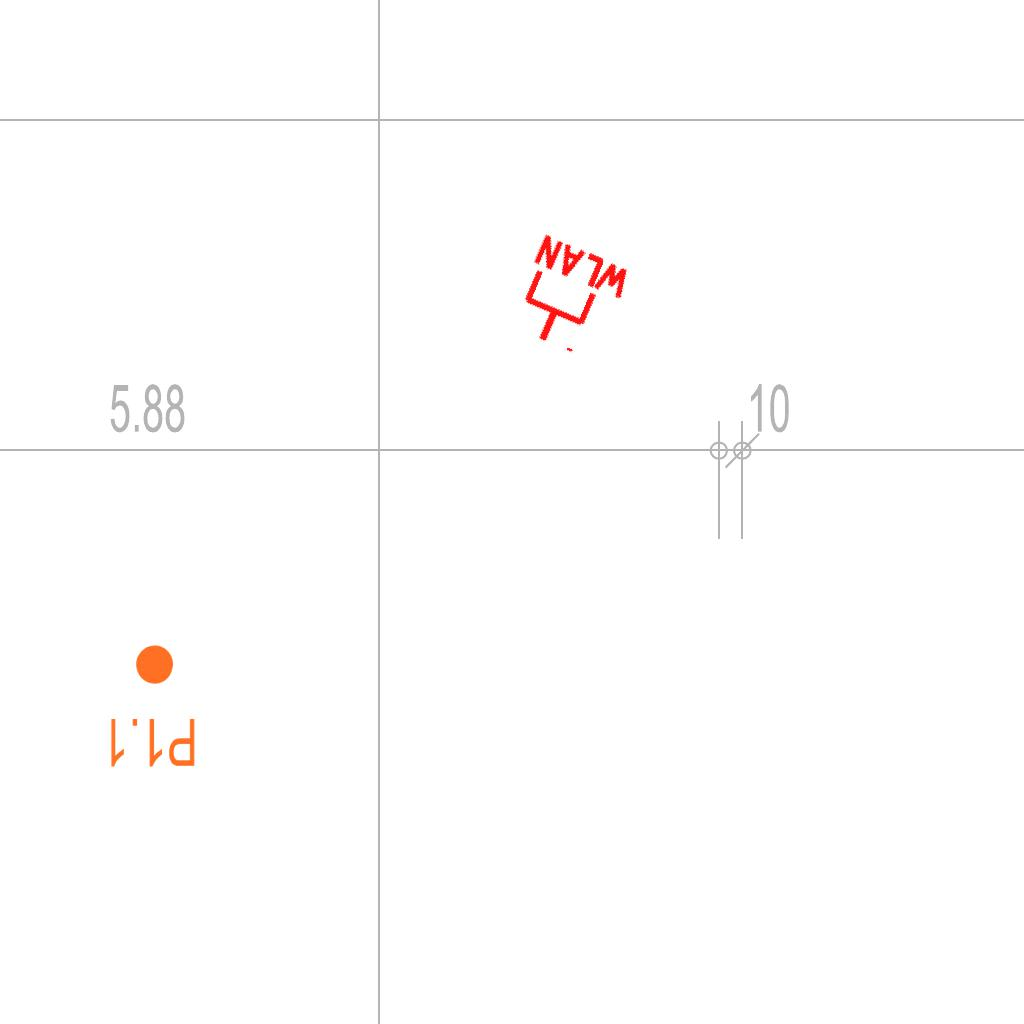Downlight_LED_Einbauleuchten_Flur: (105, 642, 198, 770)
WLAN: (501, 230, 638, 368)
